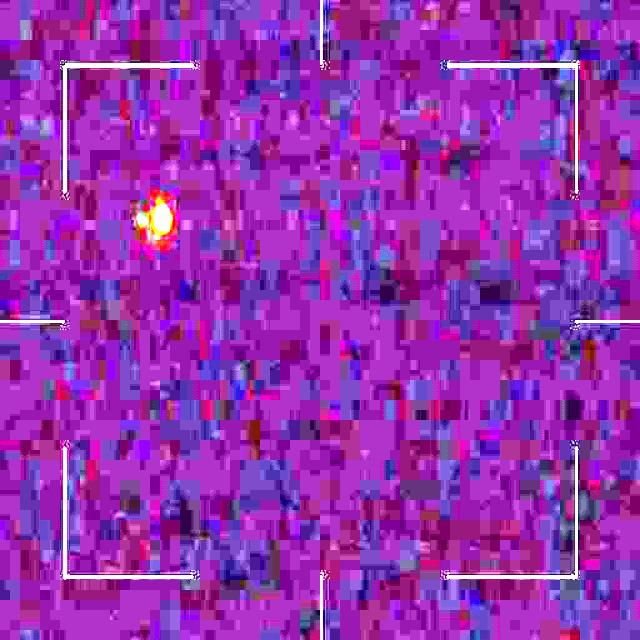bird: (136, 199, 174, 248)
